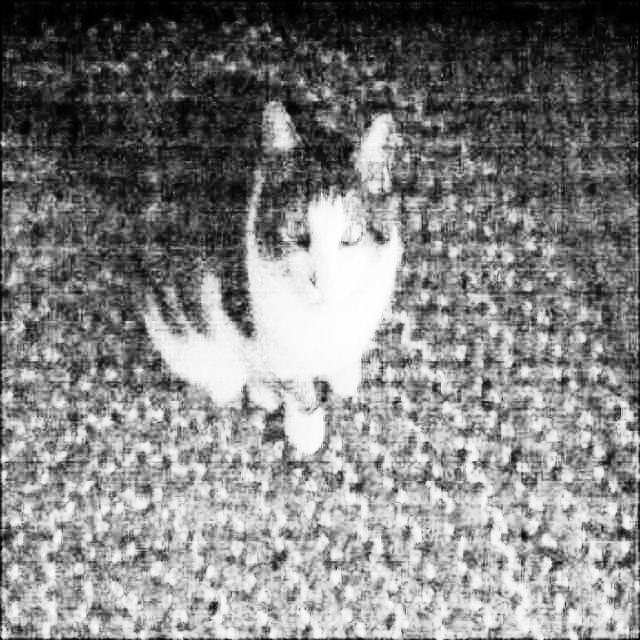Cat: (130, 54, 404, 455)
